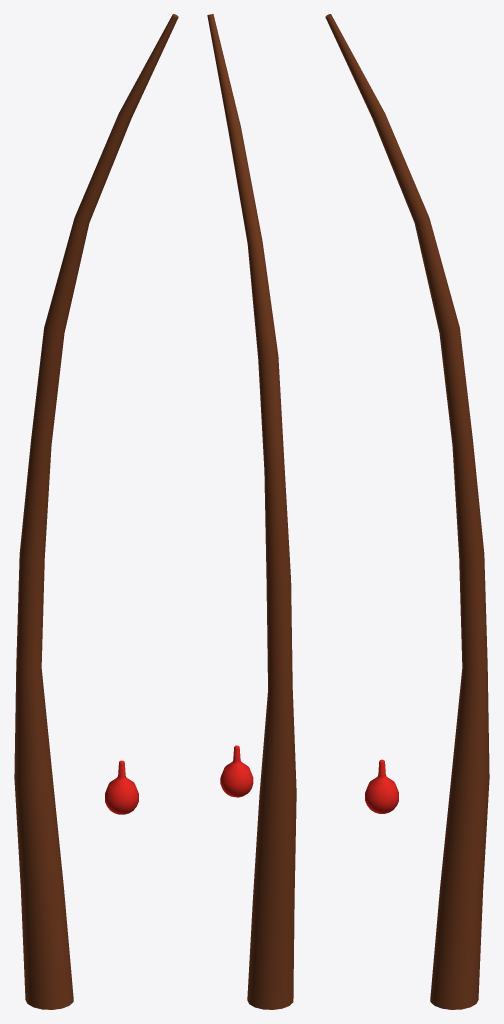
The model's file is CAP.fbx.
The picture shows the model from 3 angles, left to right: view 1: azimuth 90°, elevation 25°; view 2: azimuth 210°, elevation 25°; view 3: azimuth 270°, elevation 25°; orthographic projection. The views are drawn at different scales.
Visible parts, largest first — view 1: Canne_a_peche, Floteur; view 2: Canne_a_peche, Floteur; view 3: Canne_a_peche, Floteur.
Boxes of the visible parts, left/top/right/bottom form: Canne_a_peche: left=14, top=14, right=178, bottom=1009; Floteur: left=105, top=760, right=138, bottom=814; Canne_a_peche: left=207, top=14, right=296, bottom=1009; Floteur: left=220, top=745, right=253, bottom=797; Canne_a_peche: left=325, top=14, right=489, bottom=1009; Floteur: left=365, top=759, right=398, bottom=813.
Size of the model in its own units: 17.85 by 400 by 60.36.
